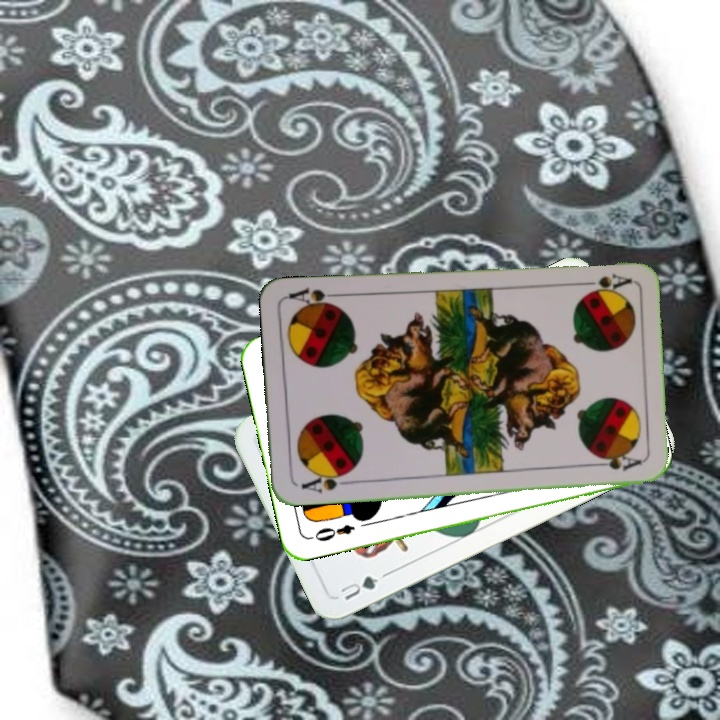EO: (306, 520, 357, 544)
GU: (336, 572, 381, 603)
SA: (297, 467, 353, 496), (574, 269, 633, 296)
